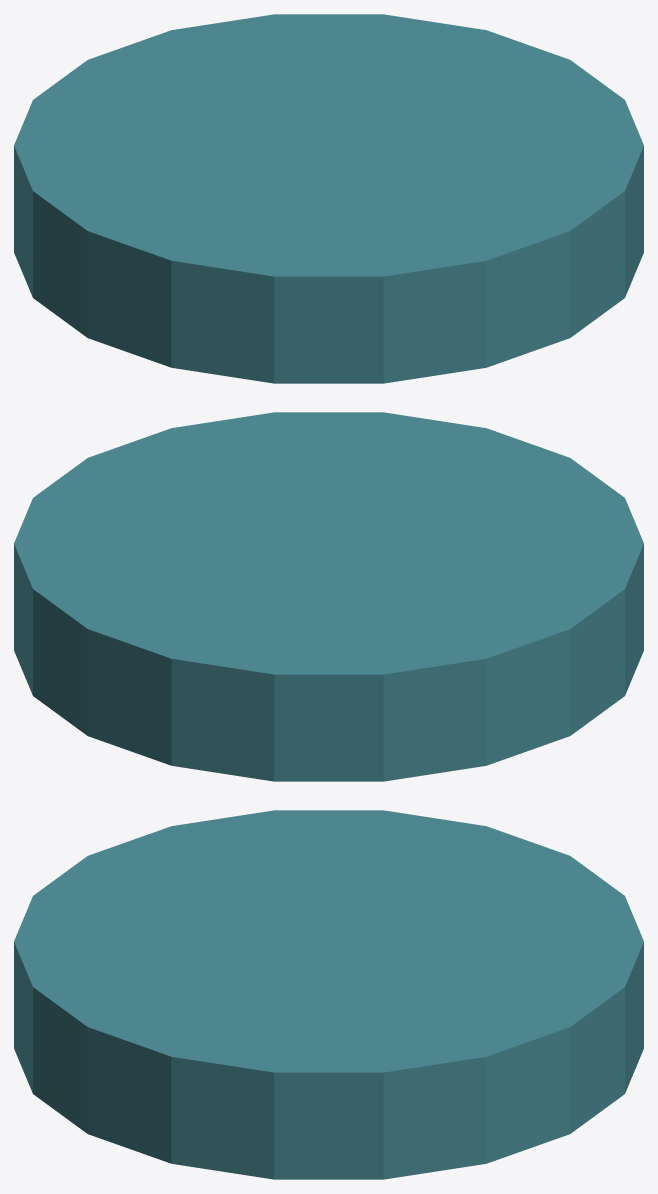
File: lens.glb
3 views of the same model, one above another, from view 1: azimuth 30°, elevation 25°; view 2: azimuth 150°, elevation 25°; view 3: azimuth 270°, elevation 25° (orthographic).
Parts seen in each view (by area): view 1: polished lens; view 2: polished lens; view 3: polished lens.
Boxes of the visible parts, bbox=[...] form: polished lens: bbox=[14, 14, 643, 383]; polished lens: bbox=[14, 412, 643, 781]; polished lens: bbox=[14, 810, 643, 1179].
Size of the model in its own units: 0.4727 by 0.09 by 0.48.
